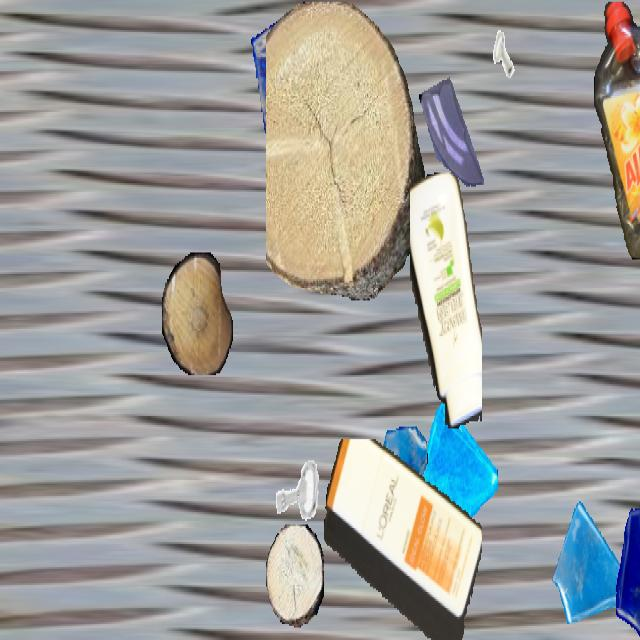glass: (404, 400, 498, 567), (251, 2, 343, 165), (552, 496, 632, 638), (418, 68, 488, 192), (368, 427, 428, 533), (607, 500, 640, 638)
metal: (323, 165, 381, 268), (270, 441, 326, 540), (485, 21, 523, 89)
plastic: (324, 439, 482, 638), (410, 172, 482, 428), (593, 2, 640, 258)
wood: (266, 2, 424, 300), (162, 252, 232, 374), (266, 524, 324, 628)
